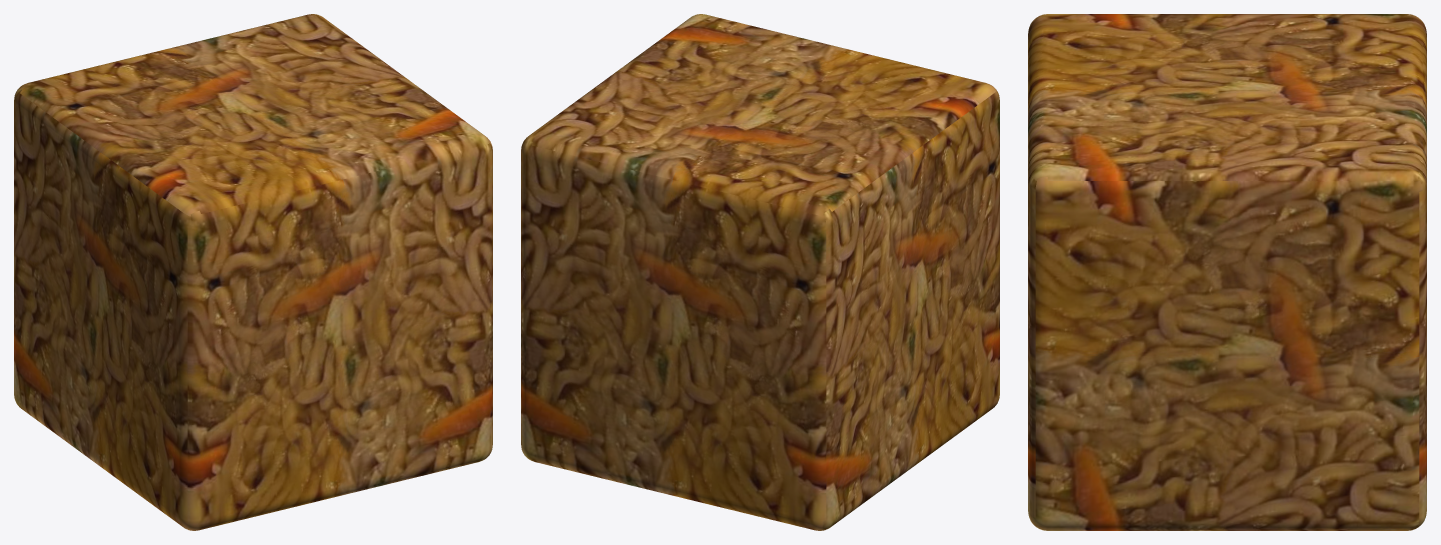
Rendered from NoodleCube.fbx.
3 renders of one model, left to right at view 1: azimuth 30°, elevation 25°; view 2: azimuth 150°, elevation 25°; view 3: azimuth 270°, elevation 25°, orthographic. The views are drawn at different scales.
Parts seen in each view (by area): view 1: Cube; view 2: Cube; view 3: Cube.
Part boxes in pixels (x1,y1,x2,y2): Cube: [14, 14, 492, 530]; Cube: [521, 14, 999, 530]; Cube: [1028, 14, 1426, 530].
Bounding box in the file's own units: 200 × 200 × 200.
Materials: 1 (1 with a texture image).
